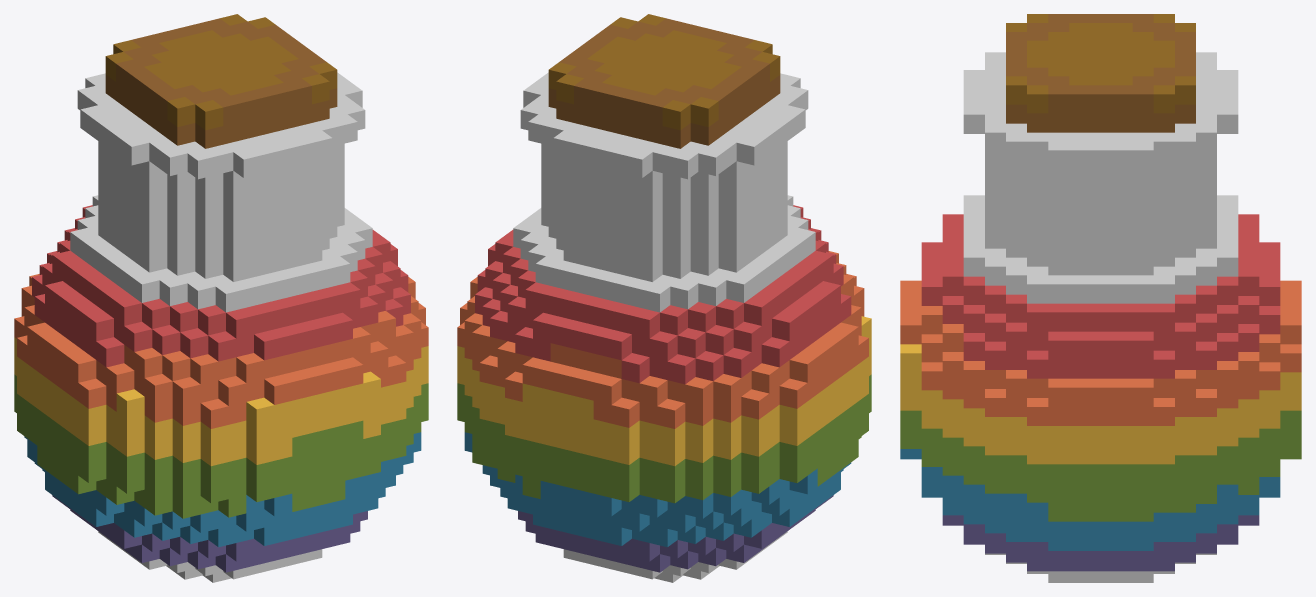
The model's file is random-bottle.obj.
The picture shows the model from 3 angles, left to right: view 1: azimuth 30°, elevation 25°; view 2: azimuth 150°, elevation 25°; view 3: azimuth 270°, elevation 25°; orthographic projection. The views are drawn at different scales.
Size of the model in its own units: 1.9 by 2.6 by 1.9.
Materials: 1 (1 with a texture image).
